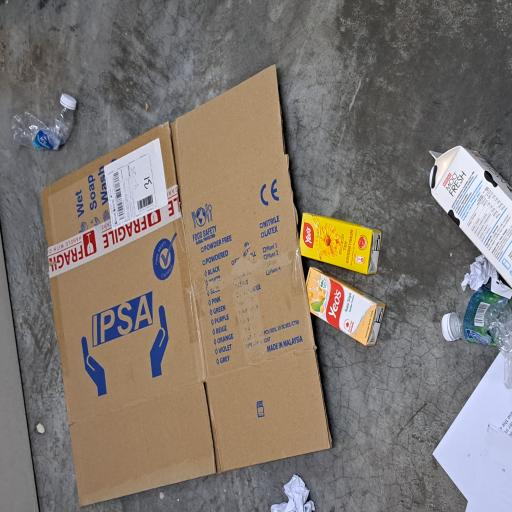cardboard: (6, 52, 335, 444)
drink carton: (125, 403, 184, 512), (181, 398, 224, 505)
paper: (0, 355, 27, 420)
plastic bottle: (272, 21, 317, 101)
plastic bottle cap: (299, 77, 316, 100)
